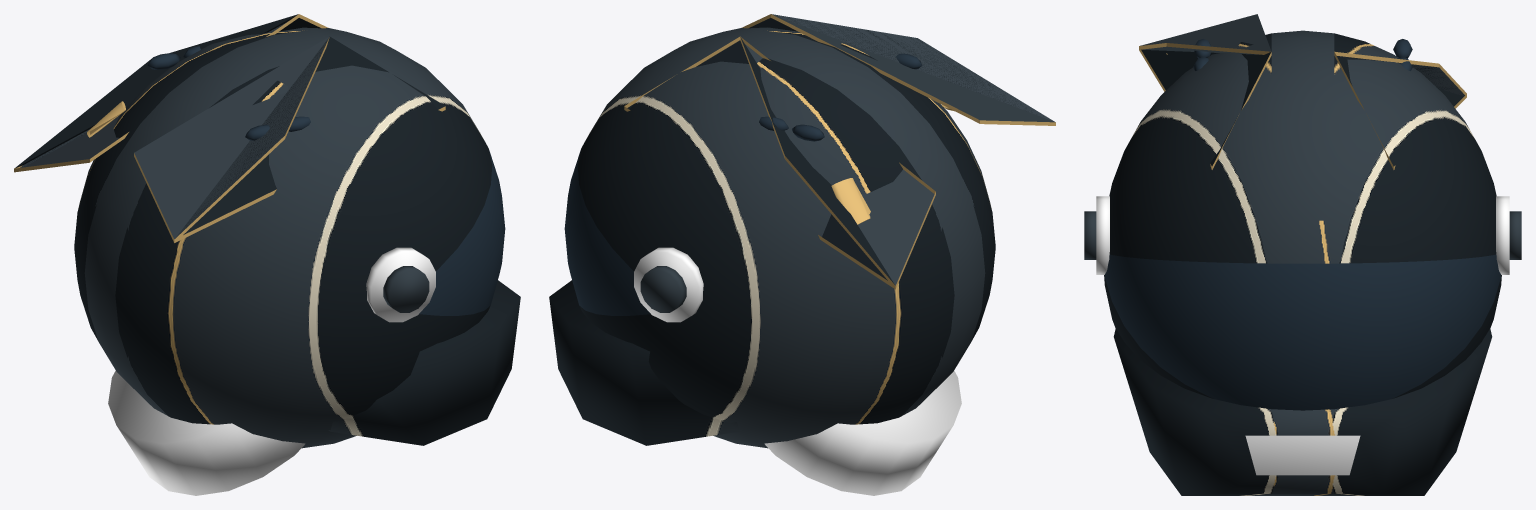
File: Helmet_28_UR_黒漆・本金縁.glb
The picture shows the model from 3 angles, left to right: view 1: azimuth 30°, elevation 25°; view 2: azimuth 150°, elevation 25°; view 3: azimuth 270°, elevation 25°; orthographic projection. The views are drawn at different scales.
Visible parts, largest first — view 1: Helmet_28_UR, Visor; view 2: Helmet_28_UR, Visor; view 3: Helmet_28_UR, Visor.
Part boxes in pixels (left/top/right/bottom): Helmet_28_UR: left=14, top=14, right=520, bottom=495; Visor: left=147, top=46, right=505, bottom=315; Helmet_28_UR: left=549, top=14, right=1055, bottom=495; Visor: left=564, top=53, right=922, bottom=315; Helmet_28_UR: left=1084, top=14, right=1521, bottom=495; Visor: left=1104, top=39, right=1501, bottom=410.
Size of the model in its own units: 0.3037 by 0.3143 by 0.289.
Materials: 4 (4 with a texture image).
